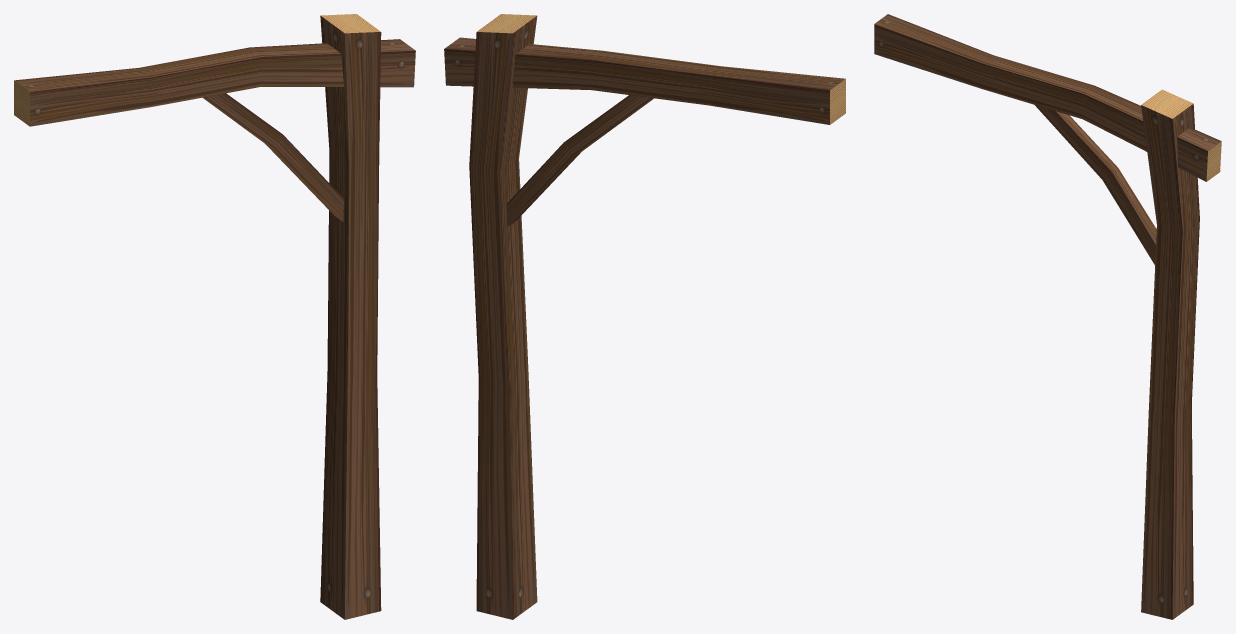
File: Gallows_01.FBX
3 renders of one model, left to right at view 1: azimuth 30°, elevation 25°; view 2: azimuth 150°, elevation 25°; view 3: azimuth 330°, elevation 25°, orthographic. The views are drawn at different scales.
Visible parts, largest first — view 1: Gallows_01; view 2: Gallows_01; view 3: Gallows_01.
Boxes of the visible parts, left/top/right/bottom form: Gallows_01: left=14, top=14, right=415, bottom=619; Gallows_01: left=444, top=14, right=845, bottom=619; Gallows_01: left=874, top=14, right=1221, bottom=619.
Bounding box in the file's own units: 2.22 × 3.31 × 0.2678.
